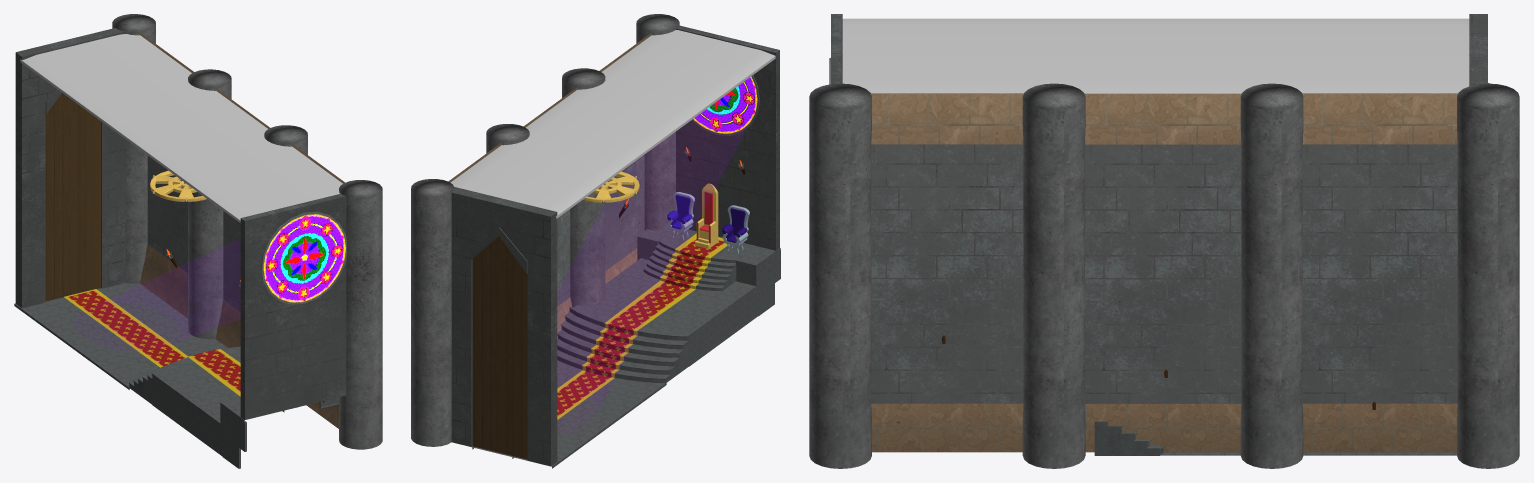
3 views of the same model, side by side, from view 1: azimuth 30°, elevation 25°; view 2: azimuth 150°, elevation 25°; view 3: azimuth 270°, elevation 25° (orthographic). The views are drawn at different scales.
Visible parts, largest first — view 1: Door, Stained_Window_Wall, Piller_4, Stained_Window, Piller_2, Wall_2, Carpet, Roof_4, Roof_2, Piller_1, Roof_6, Roof_5 (+23 smaller); view 2: Door, Stained_Window_Wall, Piller_1, Carpet, Stairs, Piller_3, Roof_4, Roof_2, Roof_6, Roof_1, Piller_4, Roof_5 (+27 smaller); view 3: Wall_2, Wall_1, Wall_3, Piller_1, Piller_4, Piller_2, Piller_3, Roof_2, Roof_6, Roof_4, Roof_1, Roof_7 (+5 smaller).
Part boxes in pixels (x1,y1,x2,y2): Door: (15, 28, 125, 308); Stained_Window_Wall: (240, 193, 346, 419); Piller_4: (339, 180, 382, 449); Stained_Window: (261, 211, 346, 304); Piller_2: (188, 69, 231, 338); Wall_2: (140, 32, 193, 318); Carpet: (64, 289, 240, 396); Roof_4: (115, 100, 260, 154); Roof_2: (178, 147, 323, 200); Piller_1: (112, 14, 155, 283); Roof_6: (51, 54, 191, 107); Roof_5: (83, 79, 228, 130); Door: (451, 187, 557, 466); Stained_Window_Wall: (676, 25, 779, 250); Piller_1: (411, 179, 454, 446); Carpet: (557, 233, 727, 419); Stairs: (557, 307, 688, 383); Piller_3: (562, 68, 605, 307); Roof_4: (536, 97, 681, 149); Roof_2: (601, 51, 744, 103); Roof_6: (474, 144, 618, 195); Roof_1: (631, 30, 775, 80); Piller_4: (636, 14, 679, 230); Roof_5: (515, 120, 650, 172); Wall_2: (1302, 93, 1457, 452); Wall_1: (1084, 93, 1241, 452); Wall_3: (871, 93, 1023, 452); Piller_1: (1457, 83, 1519, 468); Piller_4: (809, 83, 871, 468); Piller_2: (1240, 83, 1303, 468); Piller_3: (1022, 83, 1085, 468); Roof_2: (932, 18, 1022, 93); Roof_6: (1293, 18, 1383, 93); Roof_4: (1113, 18, 1202, 93); Roof_1: (842, 18, 932, 93); Roof_7: (1383, 18, 1469, 93).
Bounding box in the file's own units: 6.09 × 10.61 × 18.87.
